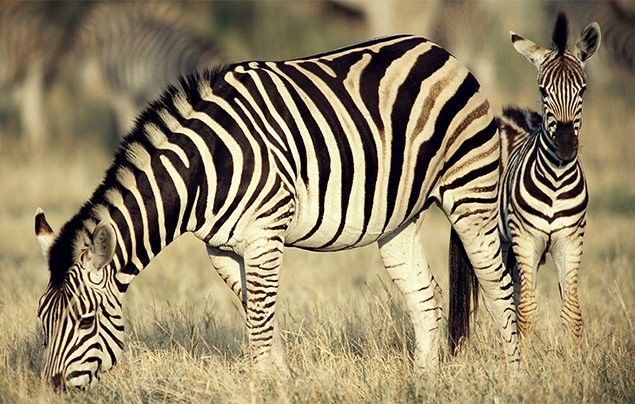Zebra: (37, 38, 492, 404), (506, 24, 621, 378)
